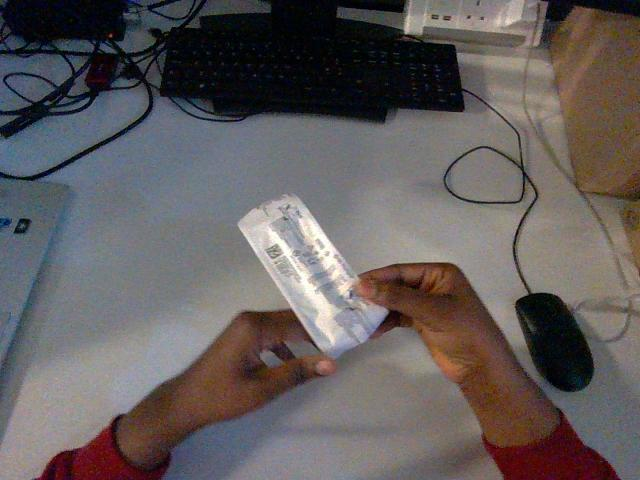syringe: (238, 194, 387, 357)
